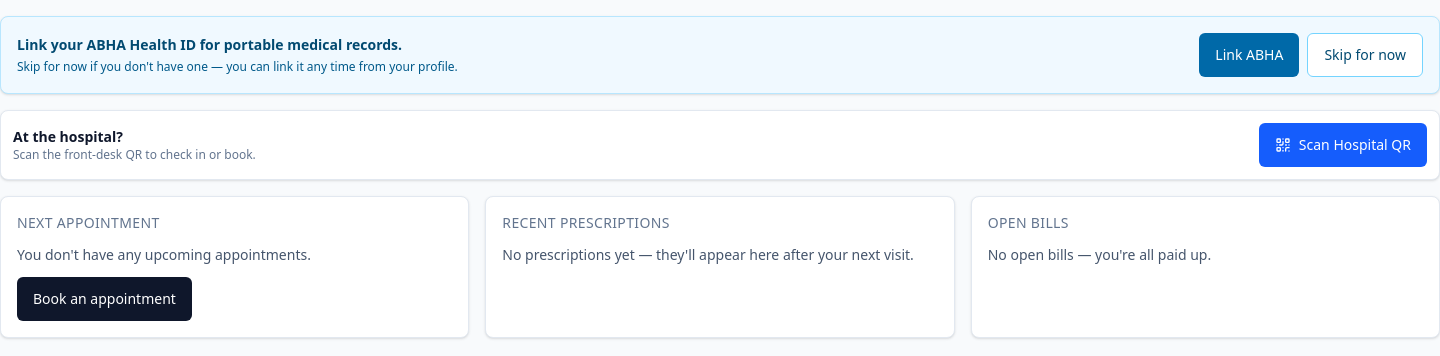
Scenario: Patient dashboard — gap #5 piece 3a › hides the banner and persists the dismissal flag when Skip is clicked
The width and height of the screenshot is (1440, 356).
Click the button with test id "patient-abha-prompt-skip".
click(1365, 55)  # box [1307,33,1423,77]
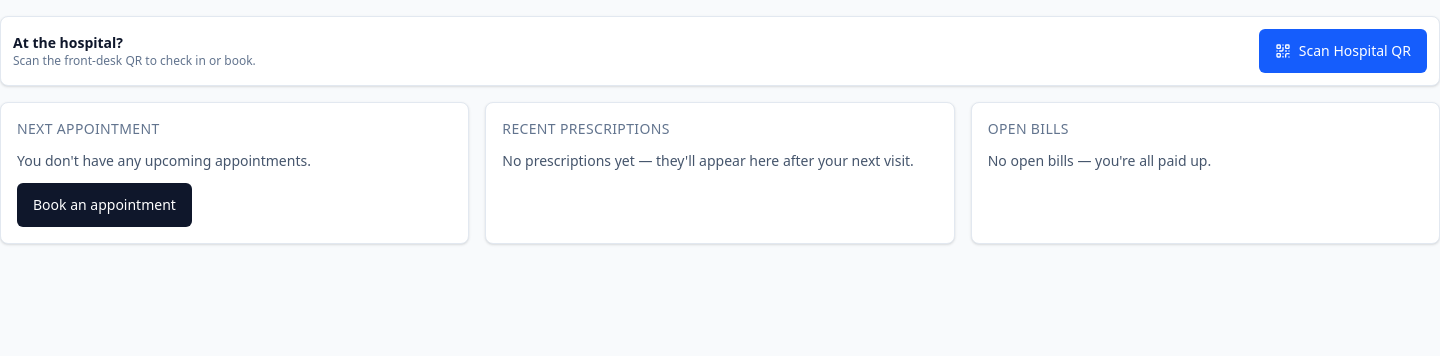
Expected: the element with test id "patient-abha-prompt-banner" is gone
